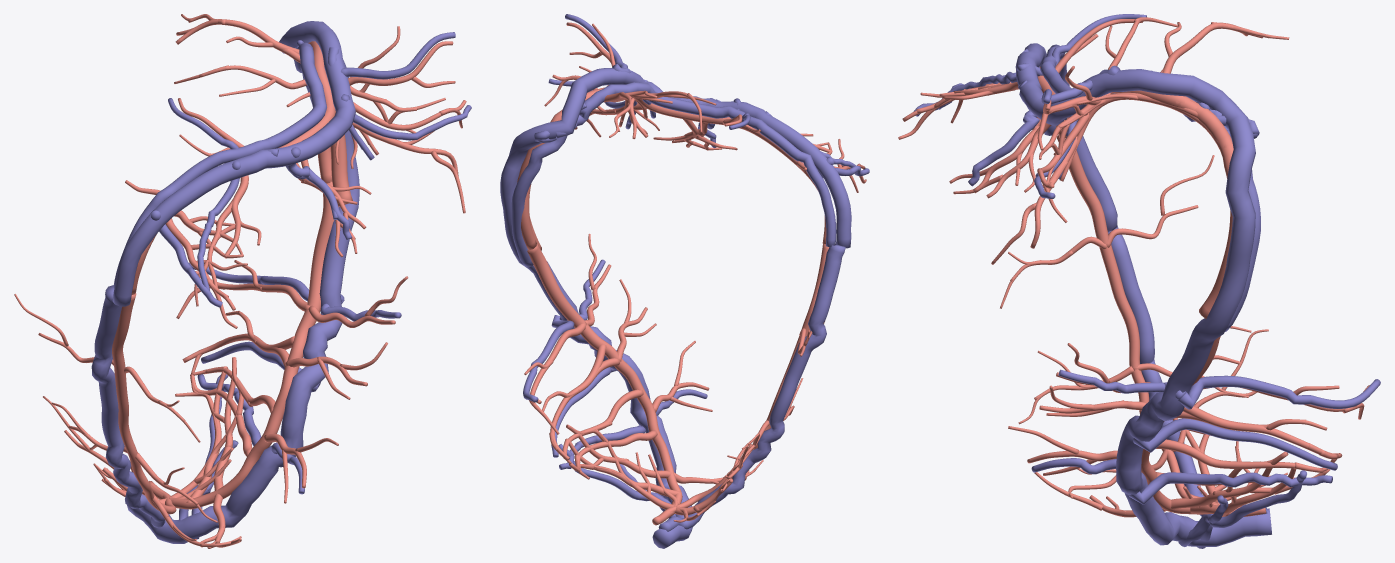
Rendered from vessels_9.glb.
3 views of the same model, side by side, from view 1: azimuth 30°, elevation 25°; view 2: azimuth 150°, elevation 25°; view 3: azimuth 270°, elevation 25° (orthographic). The views are drawn at different scales.
Parts seen in each view (by area): view 1: Renderer Node; view 2: Renderer Node; view 3: Renderer Node.
Boxes of the visible parts, x1,y1,x2,y2 form: Renderer Node: (14, 14, 471, 548); Renderer Node: (500, 14, 869, 548); Renderer Node: (898, 14, 1380, 548).
Bounding box in the file's own units: 95.54 × 124 × 95.45.
